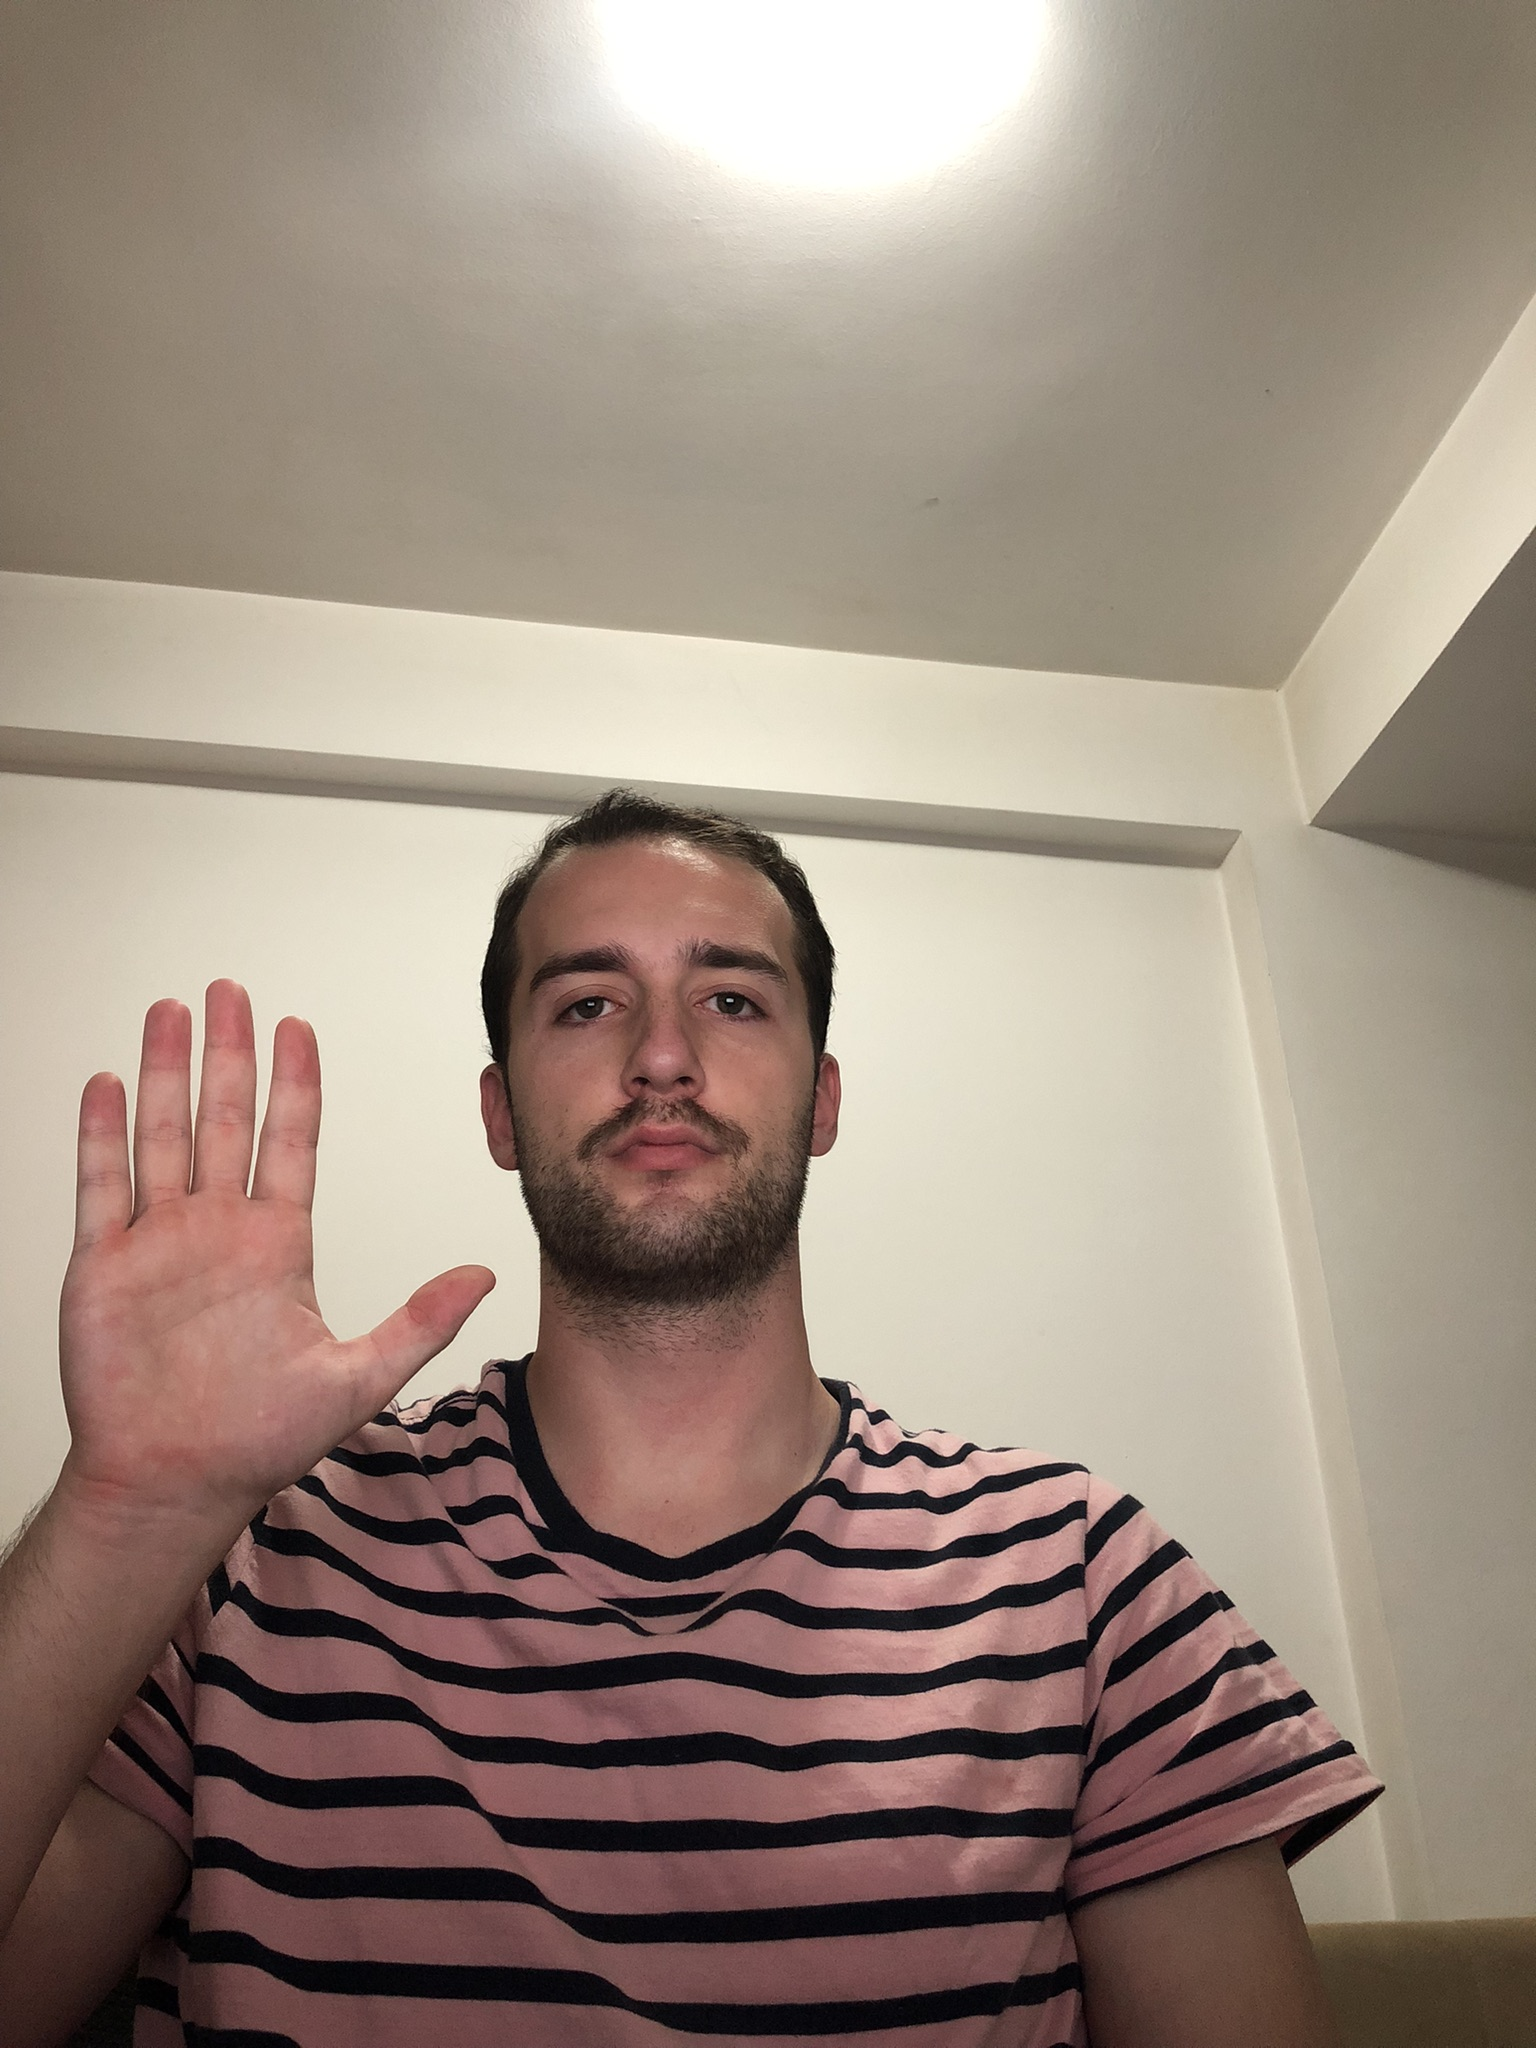Hello: (53, 972, 503, 1538)
